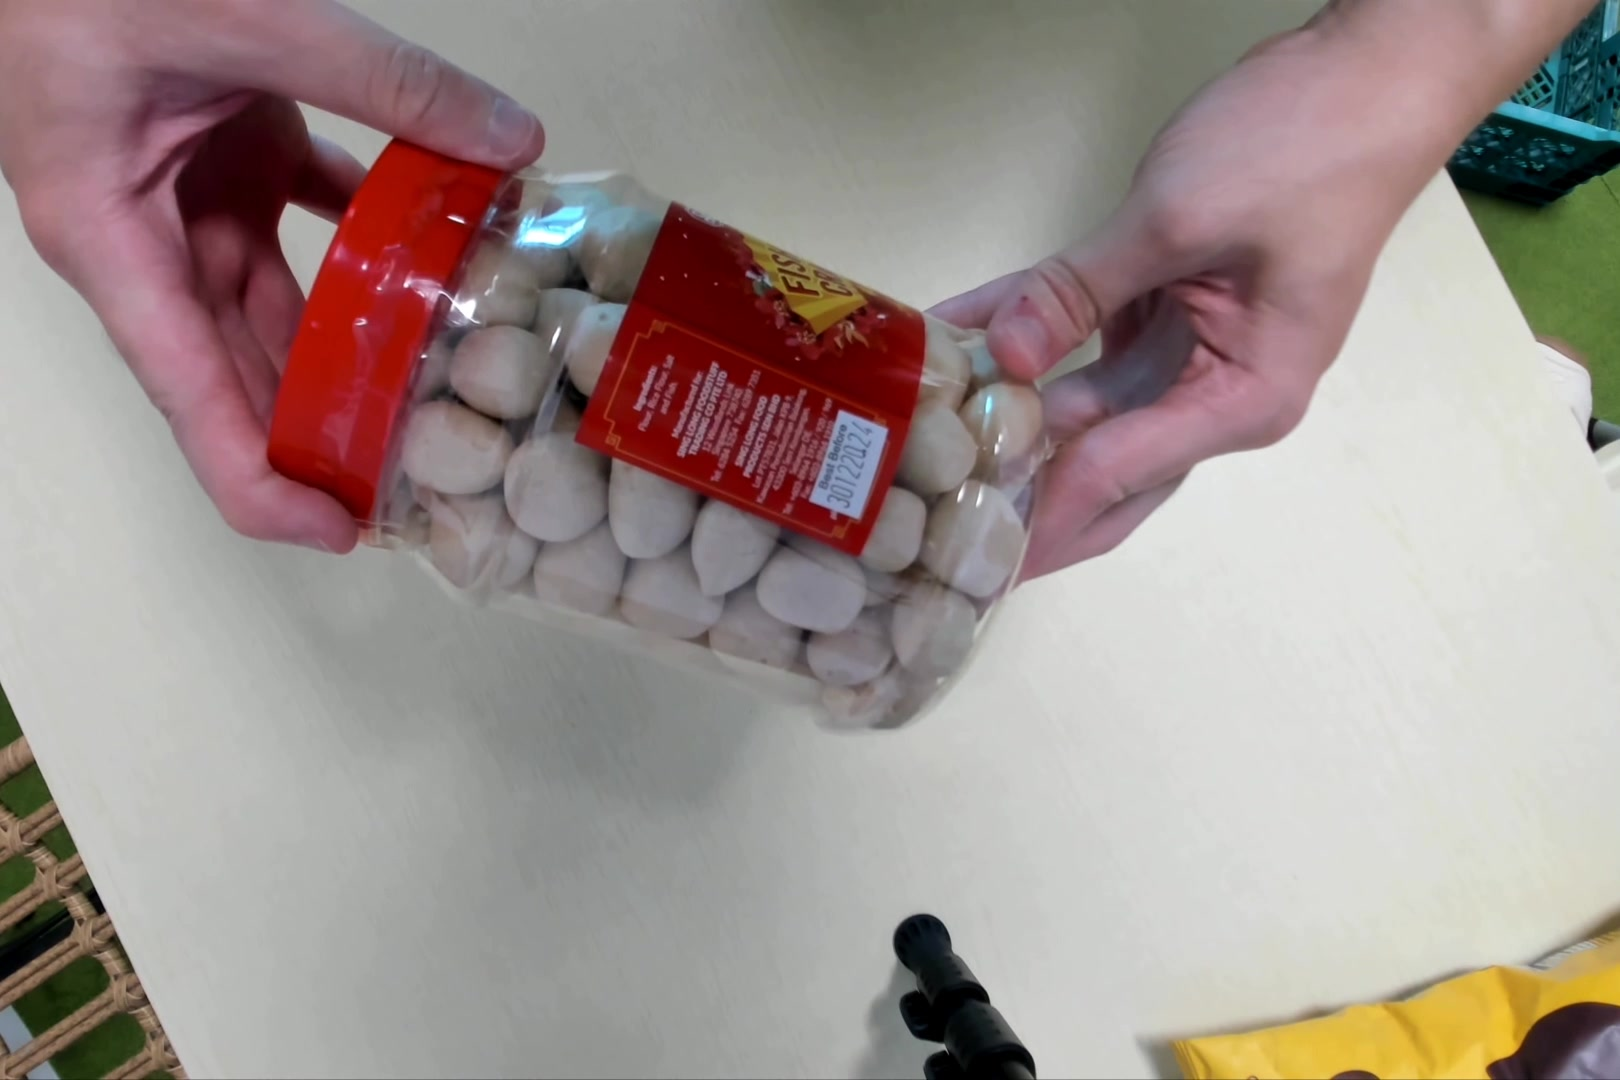PotatoChipsKeropok_100-199g_NonHalal_NonHealthy: (271, 136, 1051, 755)
